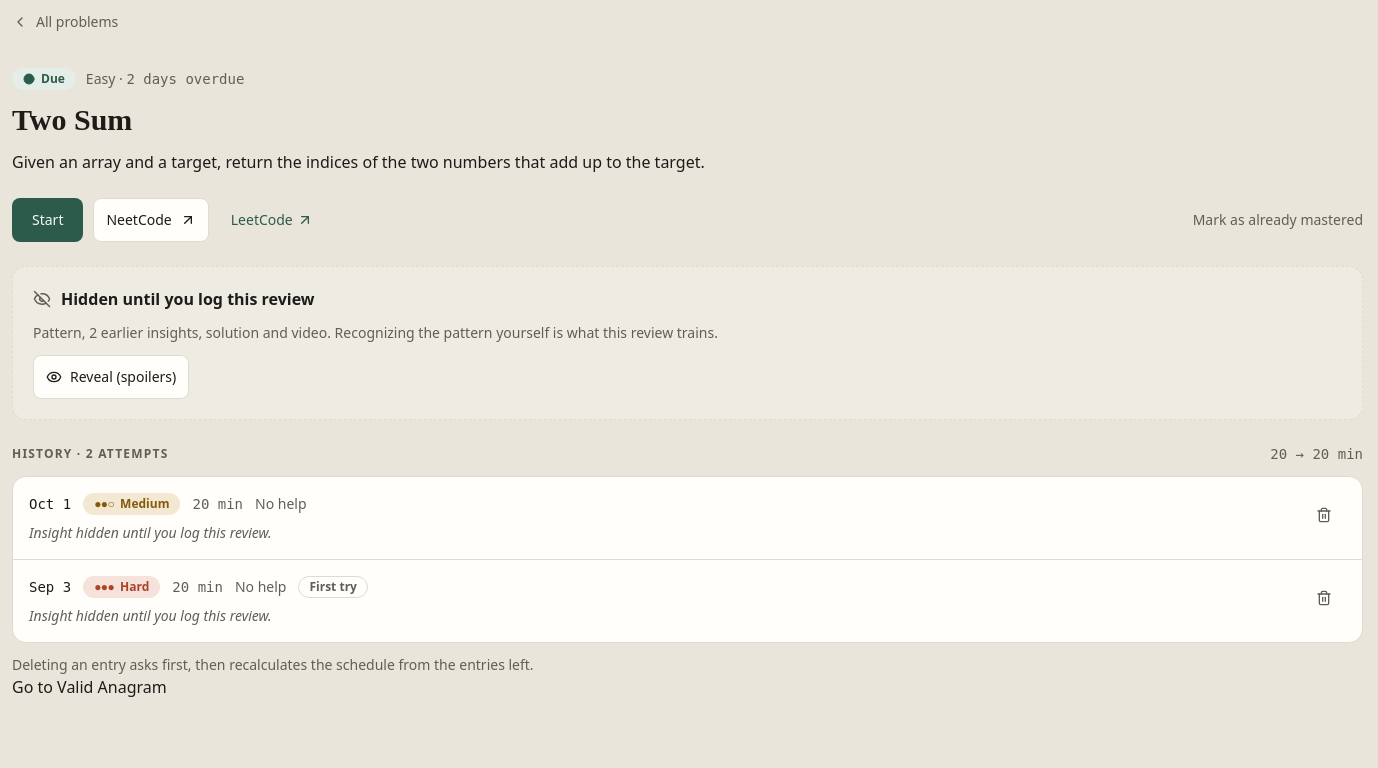
Test: ProblemDetailPage › hides the spoilers again when moving straight to another due problem
Step 1. Click the button "Reveal (spoilers)" → (111, 377), box [33, 355, 189, 399]
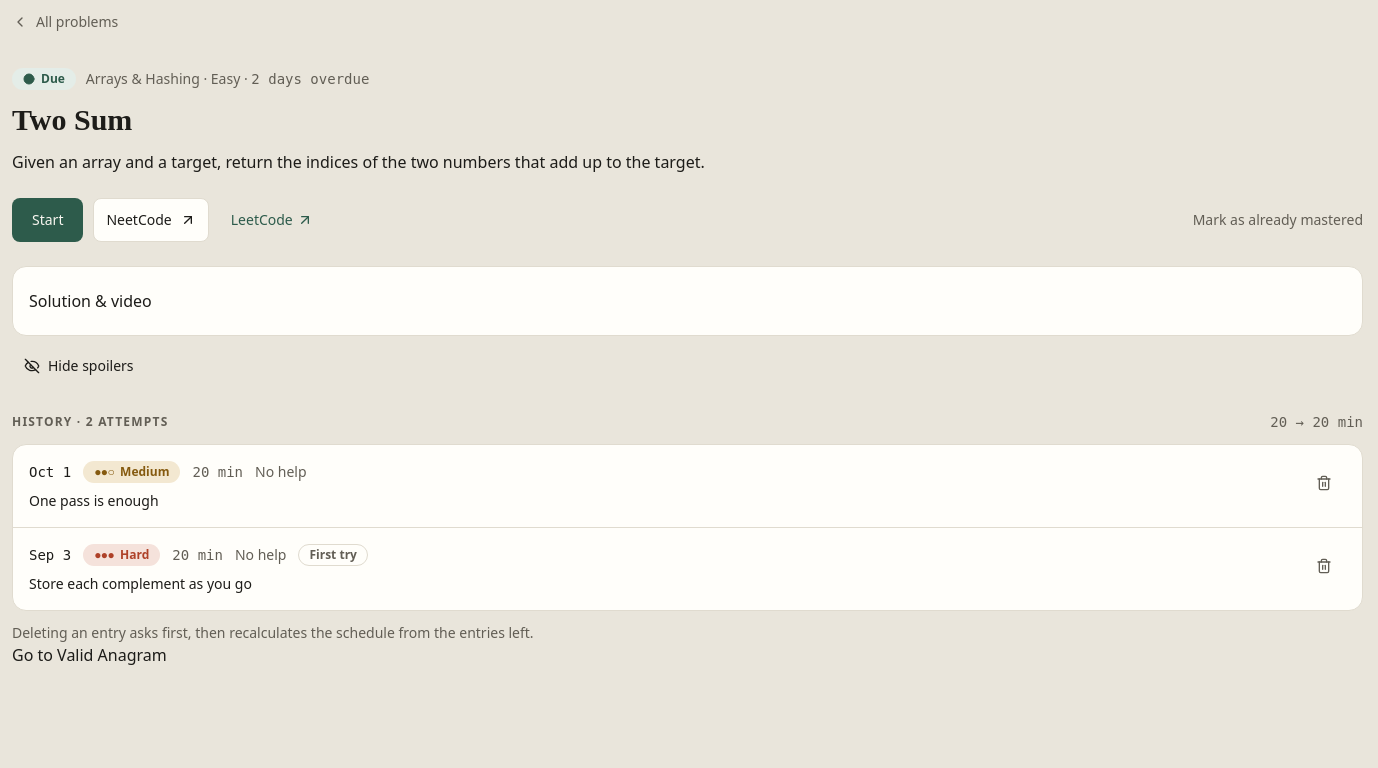
Step 2. Click the link "Go to Valid Anagram" → (89, 655), box [12, 644, 167, 666]
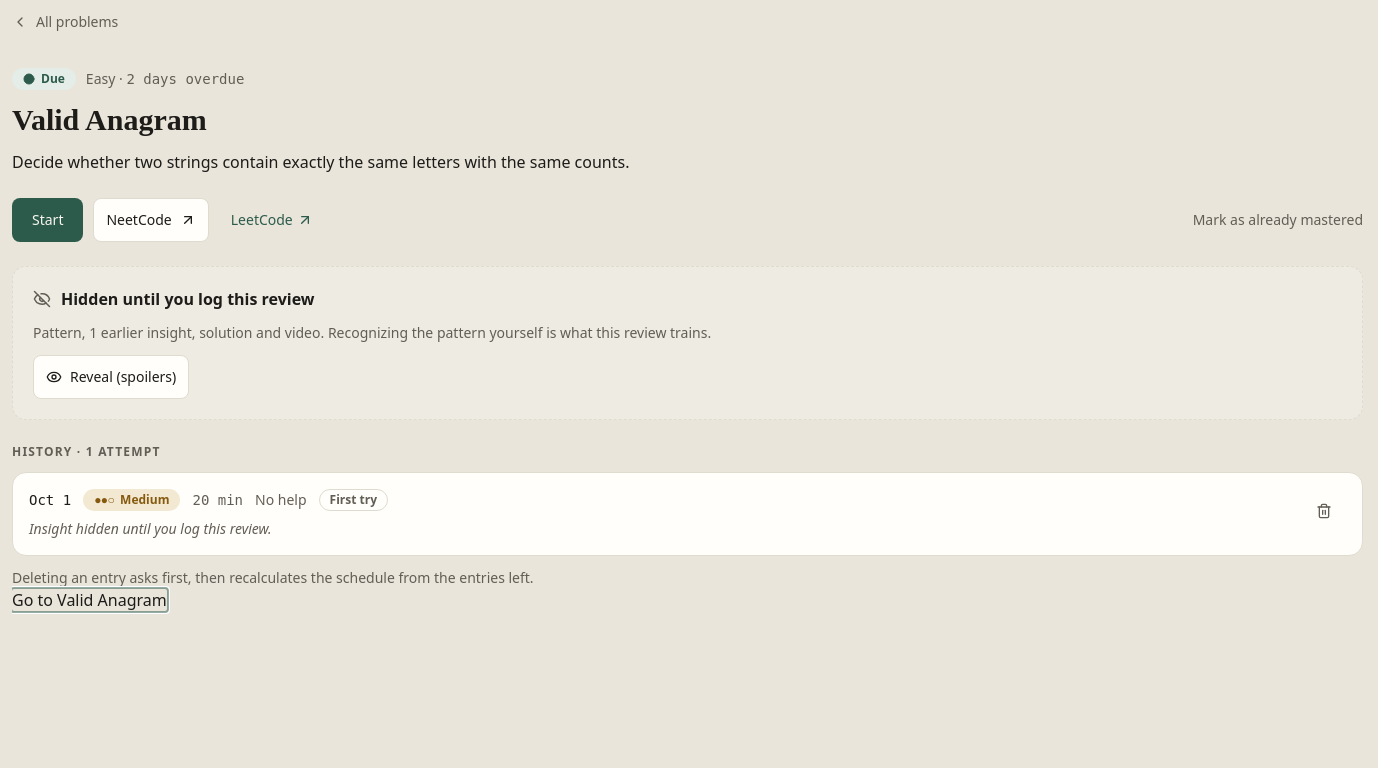
Now the heading "Valid Anagram" is shown, box [12, 103, 207, 136]
Now the text "One pass is enough" is gone
Now the button "Reveal (spoilers)" is shown, box [33, 355, 189, 399]
